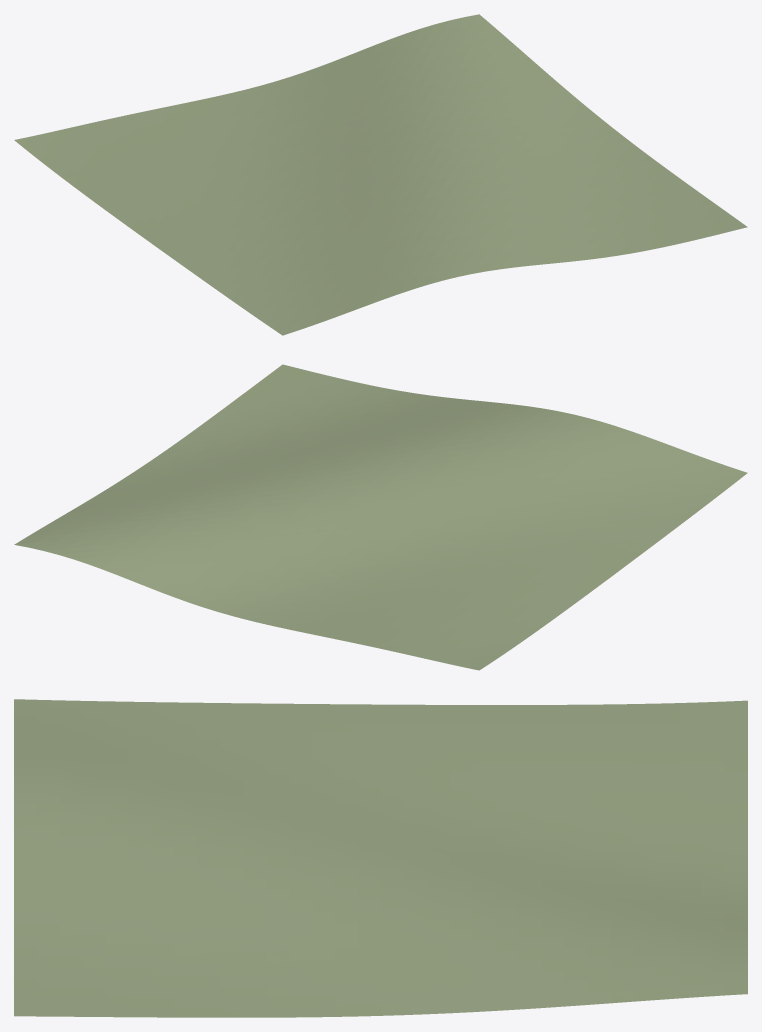
Rendered from desert-8-9.glb.
3 views of the same model, one above another, from view 1: azimuth 30°, elevation 25°; view 2: azimuth 150°, elevation 25°; view 3: azimuth 270°, elevation 25° (orthographic). The views are drawn at different scales.
Parts seen in each view (by area): view 1: desert-8-9; view 2: desert-8-9; view 3: desert-8-9.
Part boxes in pixels (bbox=[...]): desert-8-9: bbox=[14, 14, 747, 335]; desert-8-9: bbox=[14, 364, 747, 670]; desert-8-9: bbox=[14, 699, 747, 1017].
Size of the model in its own units: 512 by 24.19 by 512.
